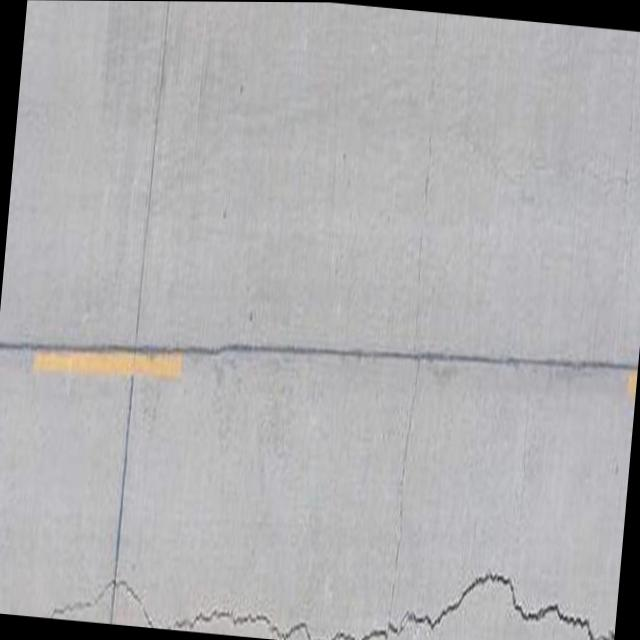Crack: (47, 513, 620, 640)
